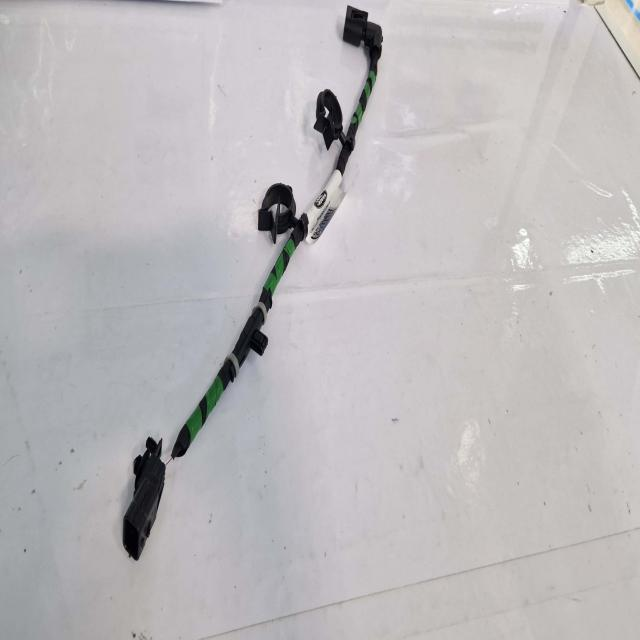Clip: (258, 184, 298, 243), (314, 89, 352, 151), (232, 304, 266, 365), (134, 437, 162, 490)
Connector: (122, 460, 165, 559), (342, 5, 382, 56)
Info: (301, 169, 345, 245)
strap: (171, 5, 382, 460), (260, 289, 272, 322), (228, 352, 240, 375)
